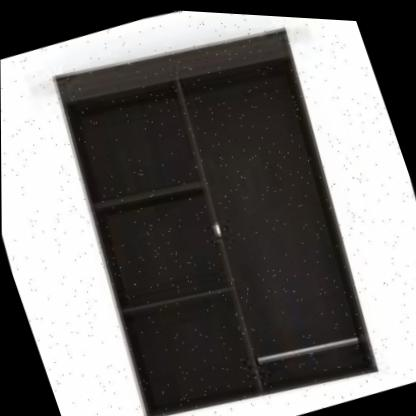Closet: (24, 1, 409, 416)
